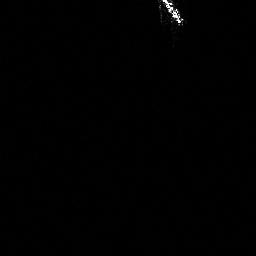ship: (158, 1, 185, 28)
